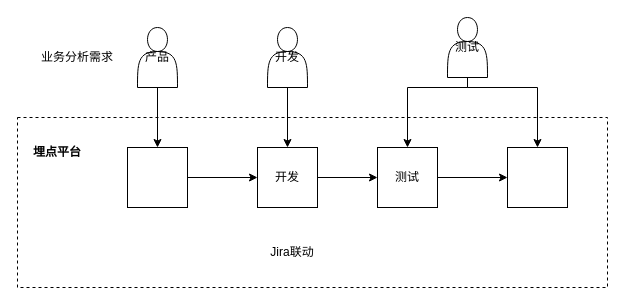
The diagram is 625 pixels wide and 305 high, and some of its shapes have lost their labels. Each missing label, with the box of its shape:
上线: (506, 146, 568, 208)
定义: (126, 146, 188, 208)
